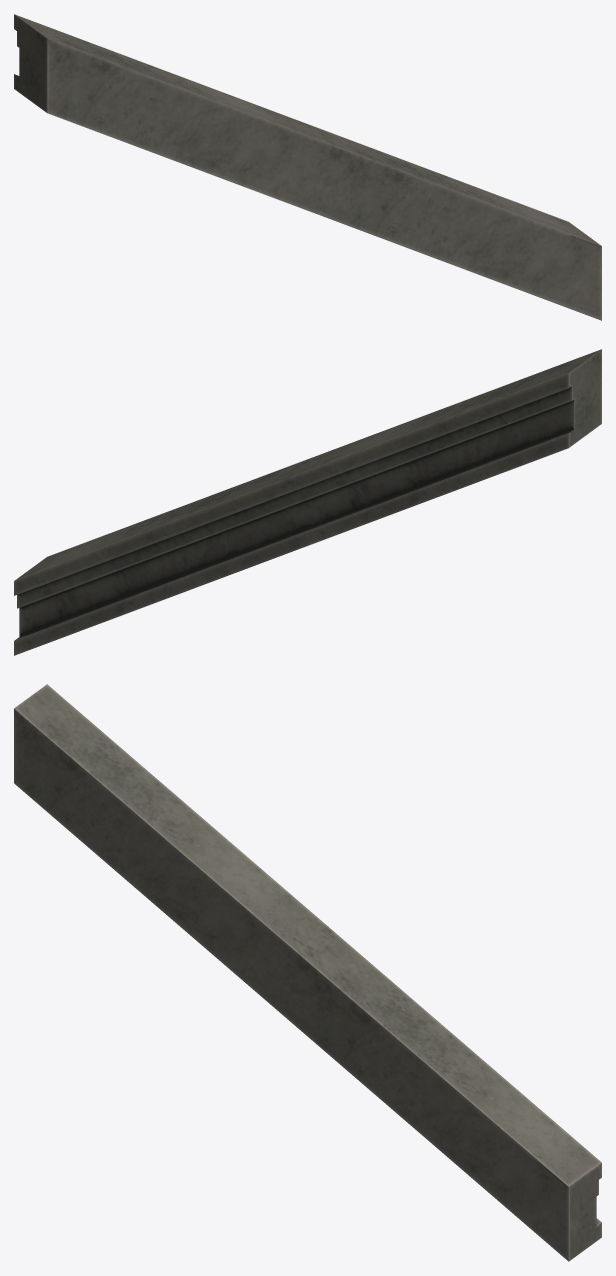
File: SM_Border2.fbx
The picture shows the model from 3 angles, top to bottom: view 1: azimuth 30°, elevation 25°; view 2: azimuth 150°, elevation 25°; view 3: azimuth 330°, elevation 25°; orthographic projection.
Parts seen in each view (by area): view 1: SM_Border2; view 2: SM_Border2; view 3: SM_Border2.
Boxes of the visible parts, x1=… form: SM_Border2: x1=14, y1=14, x2=601, y2=320; SM_Border2: x1=14, y1=349, x2=601, y2=655; SM_Border2: x1=14, y1=684, x2=601, y2=1261.
Bounding box in the file's own units: 288 × 29.83 × 207.
